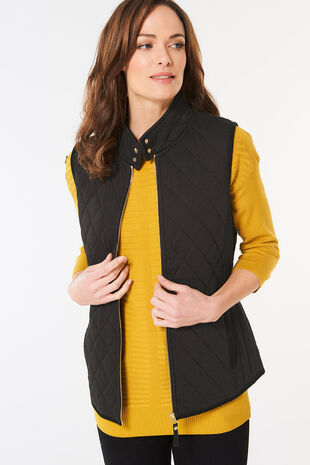F_W_suit jacket: (58, 107, 281, 420)
